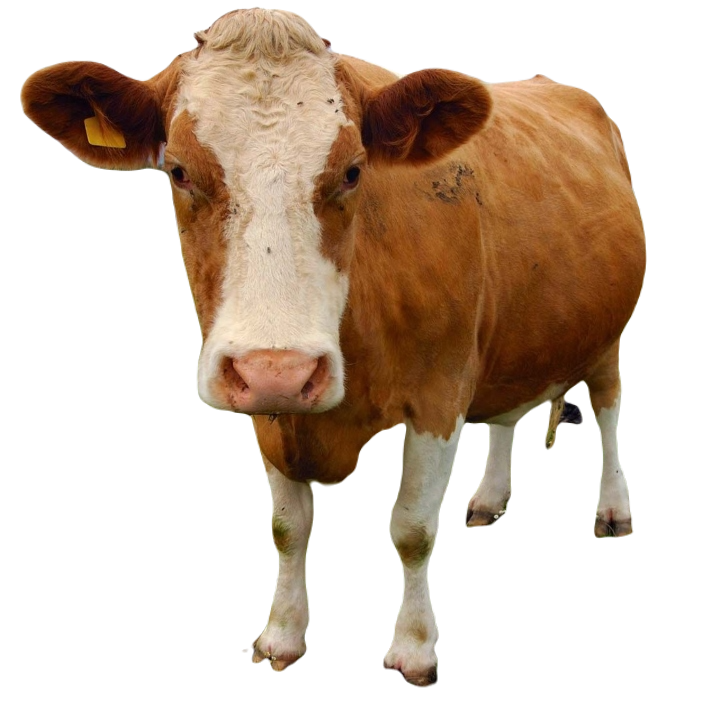Cow: (19, 5, 651, 684)
